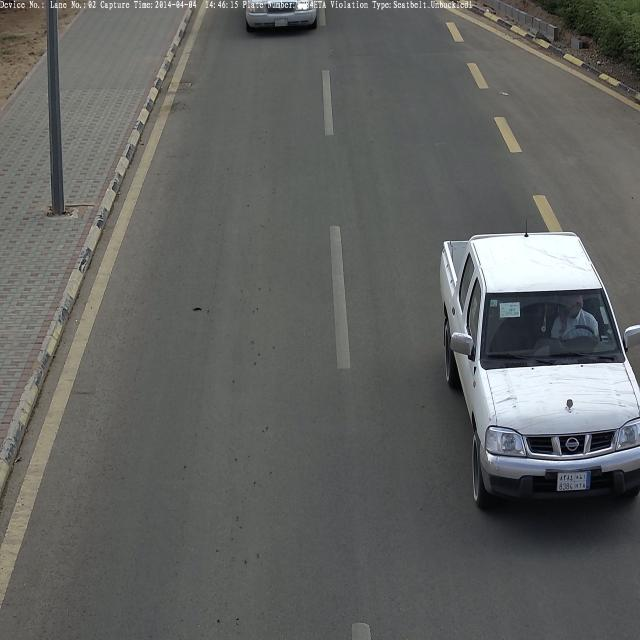person_without_seatbelt: (552, 296, 598, 342)
